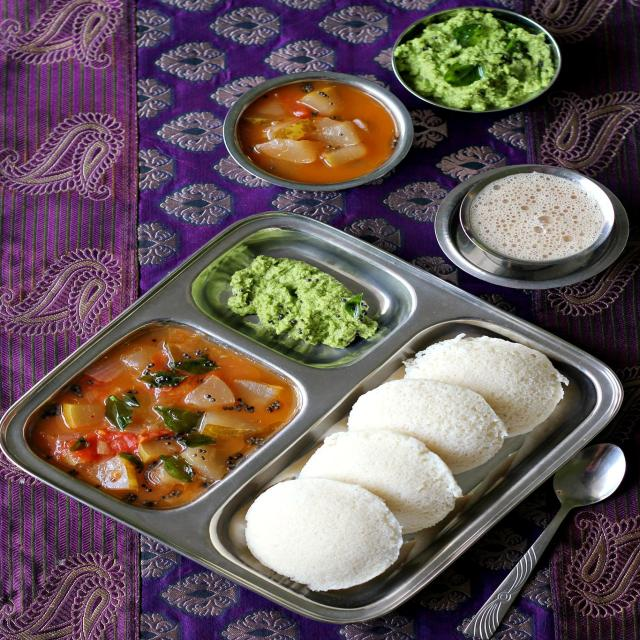idli: (249, 477, 407, 594), (404, 334, 568, 440), (343, 369, 508, 474), (312, 428, 461, 543)
